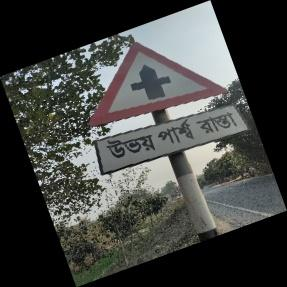Crossroad: (87, 42, 254, 180)
